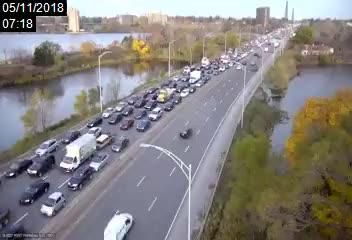congestion: (4, 116, 150, 215), (93, 86, 183, 130), (150, 68, 218, 96), (192, 54, 237, 73)
personal_car: (14, 178, 50, 205), (102, 211, 135, 240), (41, 192, 68, 219), (65, 166, 94, 189), (28, 156, 56, 178), (5, 158, 32, 179), (36, 137, 57, 157), (89, 152, 111, 170), (93, 132, 112, 151), (61, 130, 80, 145), (112, 136, 128, 152), (149, 108, 164, 123), (119, 117, 134, 130), (180, 126, 193, 139), (131, 108, 147, 118), (109, 112, 122, 124), (136, 119, 150, 130), (102, 106, 114, 118), (87, 117, 101, 127), (143, 100, 157, 109), (179, 87, 190, 98), (128, 94, 139, 105), (163, 101, 175, 111), (116, 101, 128, 111), (123, 106, 134, 116), (170, 96, 182, 104), (186, 83, 196, 92), (146, 92, 157, 100), (134, 99, 145, 107), (138, 90, 148, 98), (195, 78, 203, 87), (180, 74, 189, 82), (162, 77, 170, 86), (172, 73, 180, 81), (169, 80, 177, 88), (147, 85, 155, 93), (219, 64, 225, 72), (212, 68, 218, 76), (203, 63, 211, 69), (206, 68, 213, 74), (203, 75, 210, 81)
truck: (60, 134, 96, 171), (188, 70, 202, 83)
